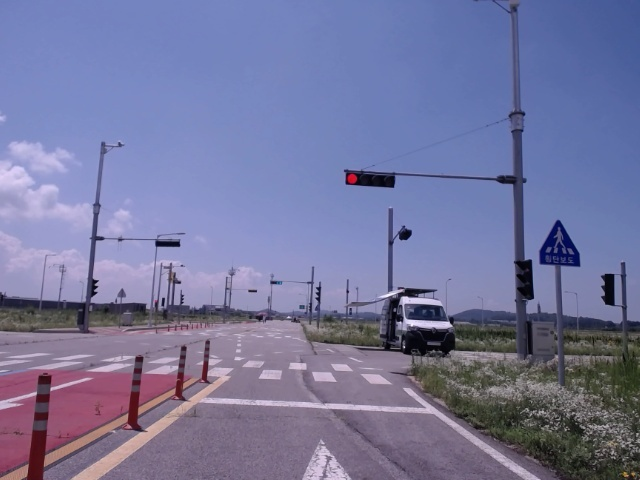red_4: (346, 173, 394, 188)
